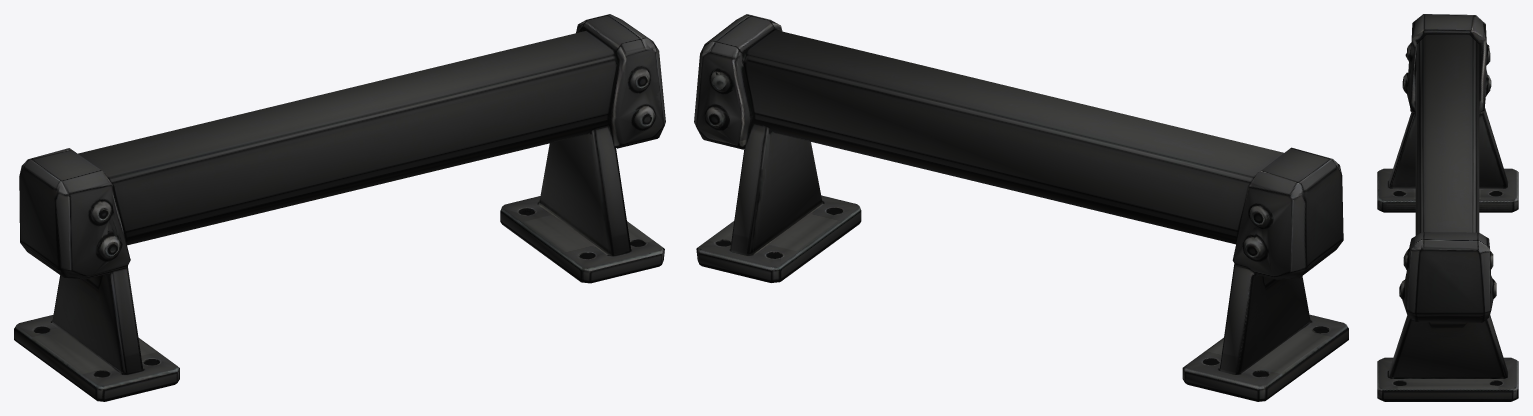
File: bunker-rear_spoiler.glb
The picture shows the model from 3 angles, left to right: view 1: azimuth 30°, elevation 25°; view 2: azimuth 150°, elevation 25°; view 3: azimuth 270°, elevation 25°; orthographic projection. The views are drawn at different scales.
Visible parts, largest first — view 1: tripo_node_3ef7bcea-e8e1-4976-85bf-7bc51319aaa6; view 2: tripo_node_3ef7bcea-e8e1-4976-85bf-7bc51319aaa6; view 3: tripo_node_3ef7bcea-e8e1-4976-85bf-7bc51319aaa6.
Boxes of the visible parts, x1,y1,x2,y2 form: tripo_node_3ef7bcea-e8e1-4976-85bf-7bc51319aaa6: [14, 14, 665, 401]; tripo_node_3ef7bcea-e8e1-4976-85bf-7bc51319aaa6: [694, 14, 1348, 401]; tripo_node_3ef7bcea-e8e1-4976-85bf-7bc51319aaa6: [1377, 14, 1518, 401].
Bounding box in the file's own units: 1.45 × 0.4682 × 0.366.
Materials: 1 (1 with a texture image).
